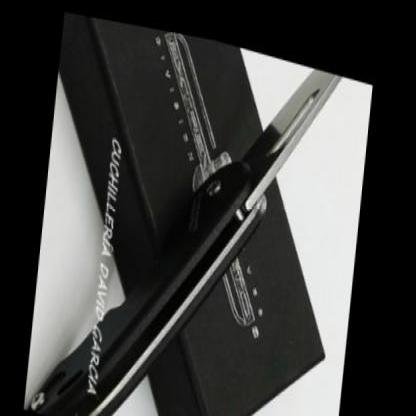knife: (236, 39, 372, 200)
